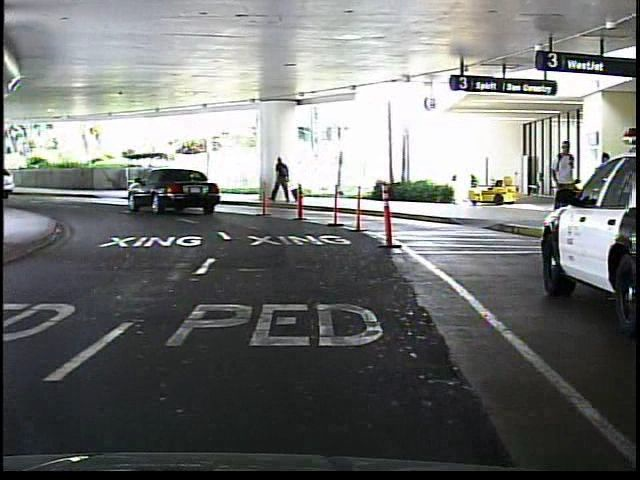person: (545, 138, 578, 235), (268, 155, 295, 208)
